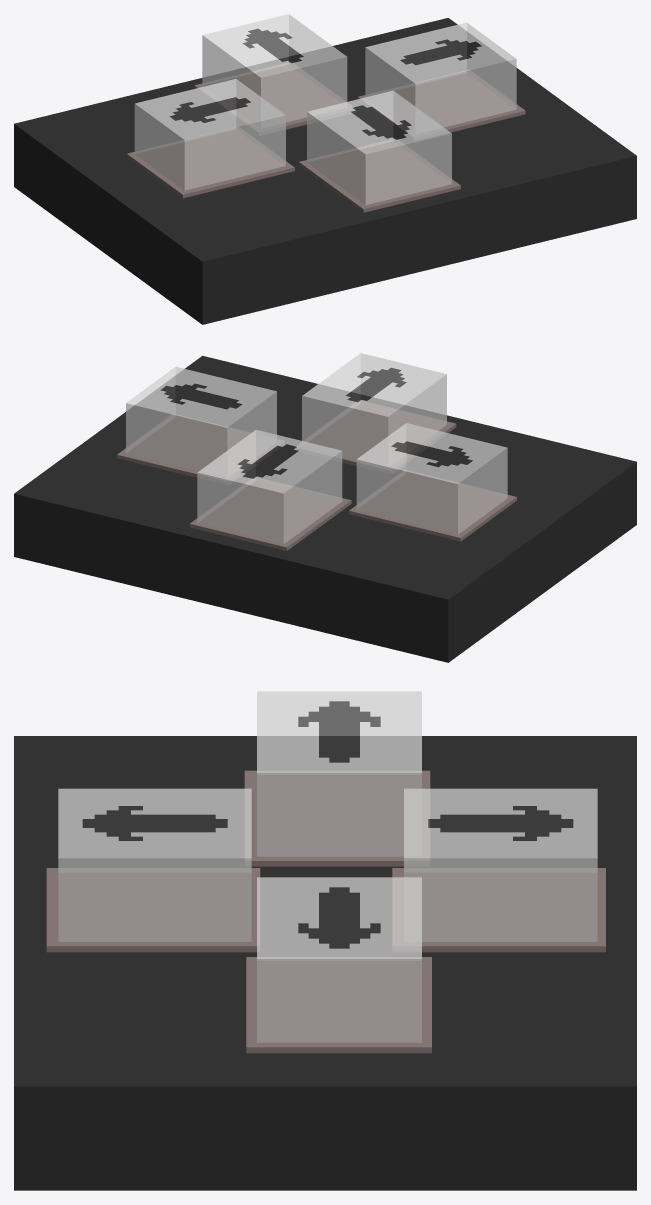
File: panel_botones_compras.glb
3 renders of one model, top to bottom at view 1: azimuth 30°, elevation 25°; view 2: azimuth 150°, elevation 25°; view 3: azimuth 270°, elevation 25°, orthographic. The views are drawn at different scales.
Parts seen in each view (by area): view 1: Cube.002, boton_izquierda, boton_abajo, boton_derecha, boton_arriba, Cube.008, Cube.006, Cube.007, Cube.005; view 2: Cube.002, boton_izquierda, boton_arriba, boton_derecha, boton_abajo, Cube.008, Cube.005, Cube.007, Cube.006; view 3: Cube.002, boton_abajo, boton_arriba, boton_derecha, boton_izquierda, Cube.006, Cube.007, Cube.005, Cube.008.
Boxes of the visible parts, left/top/right/bottom form: Cube.002: left=14, top=18, right=636, bottom=324; boton_izquierda: left=134, top=79, right=285, bottom=190; boton_abajo: left=307, top=90, right=451, bottom=204; boton_derecha: left=365, top=22, right=516, bottom=127; boton_arriba: left=202, top=14, right=347, bottom=122; Cube.008: left=126, top=127, right=294, bottom=198; Cube.006: left=299, top=138, right=460, bottom=212; Cube.007: left=357, top=70, right=525, bottom=140; Cube.005: left=194, top=62, right=355, bottom=135; Cube.002: left=14, top=355, right=636, bottom=662; boton_izquierda: left=356, top=423, right=507, bottom=534; boton_arriba: left=197, top=429, right=342, bottom=543; boton_derecha: left=126, top=366, right=276, bottom=471; boton_abajo: left=302, top=353, right=446, bottom=459; Cube.008: left=349, top=470, right=516, bottom=541; Cube.005: left=189, top=477, right=351, bottom=550; Cube.007: left=117, top=414, right=284, bottom=484; Cube.006: left=294, top=400, right=456, bottom=473; Cube.002: left=14, top=736, right=636, bottom=1190; boton_abajo: left=58, top=788, right=251, bottom=941; boton_arriba: left=404, top=788, right=597, bottom=941; boton_derecha: left=257, top=877, right=421, bottom=1042; boton_izquierda: left=257, top=691, right=421, bottom=856; Cube.006: left=46, top=868, right=260, bottom=952; Cube.007: left=246, top=957, right=431, bottom=1053; Cube.005: left=392, top=868, right=605, bottom=952; Cube.008: left=244, top=770, right=430, bottom=866.
Size of the model in its own units: 0.2637 by 0.0682 by 0.1982.
9 materials, 4 textured.
